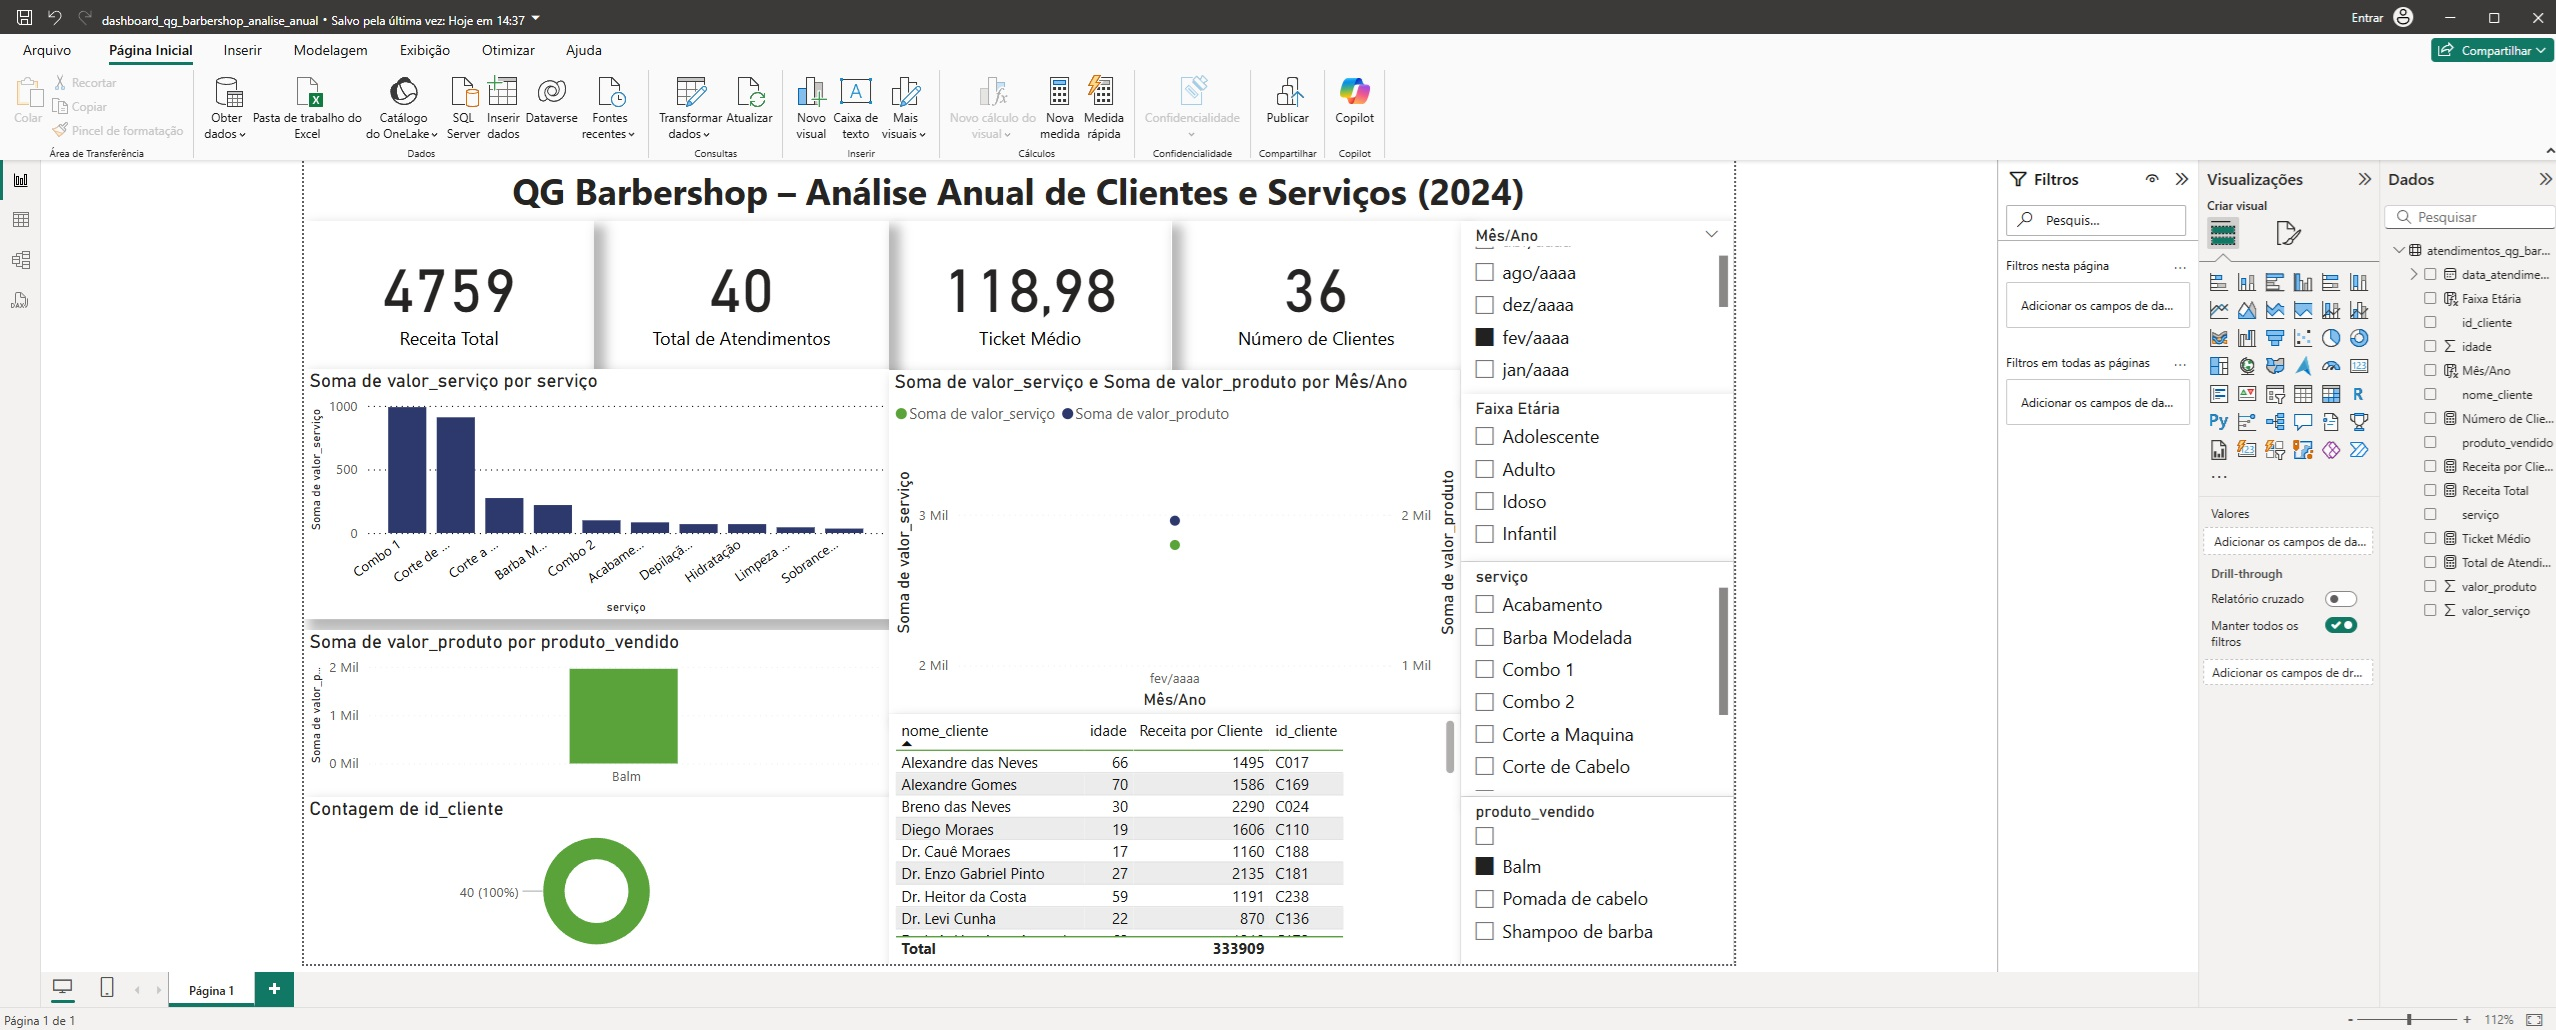

Layout of this report page (visuals, bound fields, positions):
{"tool":"powerbi","page":{"name":"Página 1","canvas":[1280,720],"ordinal":0},"visuals":[{"type":"textbox","box":[0,0,1279.7,54.6],"z":0},{"type":"card","fields":{"Values":["atendimentos_qg_barbershop.Receita Total"]},"box":[0,54.6,259.7,132.5],"z":1},{"type":"card","fields":{"Values":["atendimentos_qg_barbershop.Total de Atendimentos"]},"box":[259.7,54.6,264.2,132.5],"z":2},{"type":"card","fields":{"Values":["atendimentos_qg_barbershop.Ticket Médio"]},"box":[523.9,54.6,252.5,132.5],"z":3},{"type":"card","fields":{"Values":["atendimentos_qg_barbershop.Número de Clientes"]},"box":[776.4,54.6,259.7,132.5],"z":4},{"type":"clusteredColumnChart","fields":{"Category":["atendimentos_qg_barbershop.serviço"],"Y":["Sum(atendimentos_qg_barbershop.valor_serviço)"]},"box":[0,187.2,523.9,223.9],"z":5},{"type":"columnChart","fields":{"Category":["atendimentos_qg_barbershop.produto_vendido"],"Y":["Sum(atendimentos_qg_barbershop.valor_produto)"]},"box":[0,420.9,523.9,149.6],"z":6},{"type":"donutChart","fields":{"Y":["CountNonNull(atendimentos_qg_barbershop.id_cliente)"]},"box":[0,570.4,523.9,149.6],"z":7},{"type":"lineChart","fields":{"Category":["atendimentos_qg_barbershop.Mês/Ano"],"Y":["Sum(atendimentos_qg_barbershop.valor_serviço)"],"Y2":["Sum(atendimentos_qg_barbershop.valor_produto)"]},"box":[523.9,188.1,512.2,308.1],"z":8},{"type":"tableEx","fields":{"Values":["atendimentos_qg_barbershop.nome_cliente","atendimentos_qg_barbershop.idade","atendimentos_qg_barbershop.Receita por Cliente","atendimentos_qg_barbershop.id_cliente"]},"box":[523.9,496.1,512.2,223.9],"z":9},{"type":"slicer","fields":{"Values":["atendimentos_qg_barbershop.Mês/Ano"]},"box":[1036.1,54.6,243.6,154.9],"z":10},{"type":"slicer","fields":{"Values":["atendimentos_qg_barbershop.Faixa Etária"]},"box":[1036.1,209.6,243.6,150.4],"z":11},{"type":"slicer","fields":{"Values":["atendimentos_qg_barbershop.serviço"]},"box":[1036.1,360,243.6,210.4],"z":12},{"type":"slicer","fields":{"Values":["atendimentos_qg_barbershop.produto_vendido"]},"box":[1036,570,244,150],"z":13}]}

Visuals, with their boxes on the page's 1280x720 design canvas (x1, y1, x2, y2). These are canvas units, not pixel positions in the 2556x1030 screenshot, which may show the page scaled, cropped or inside an application window:
textbox: bbox=(0, 0, 1280, 55)
card - atendimentos_qg_barbershop.Receita Total: bbox=(0, 55, 260, 187)
card - atendimentos_qg_barbershop.Total de Atendimentos: bbox=(260, 55, 524, 187)
card - atendimentos_qg_barbershop.Ticket Médio: bbox=(524, 55, 776, 187)
card - atendimentos_qg_barbershop.Número de Clientes: bbox=(776, 55, 1036, 187)
clusteredColumnChart - atendimentos_qg_barbershop.serviço x Sum(atendimentos_qg_barbershop.valor_serviço): bbox=(0, 187, 524, 411)
columnChart - atendimentos_qg_barbershop.produto_vendido x Sum(atendimentos_qg_barbershop.valor_produto): bbox=(0, 421, 524, 570)
donutChart - CountNonNull(atendimentos_qg_barbershop.id_cliente): bbox=(0, 570, 524, 720)
lineChart - atendimentos_qg_barbershop.Mês/Ano x Sum(atendimentos_qg_barbershop.valor_serviço): bbox=(524, 188, 1036, 496)
tableEx - atendimentos_qg_barbershop.nome_cliente x atendimentos_qg_barbershop.idade: bbox=(524, 496, 1036, 720)
slicer - atendimentos_qg_barbershop.Mês/Ano: bbox=(1036, 55, 1280, 210)
slicer - atendimentos_qg_barbershop.Faixa Etária: bbox=(1036, 210, 1280, 360)
slicer - atendimentos_qg_barbershop.serviço: bbox=(1036, 360, 1280, 570)
slicer - atendimentos_qg_barbershop.produto_vendido: bbox=(1036, 570, 1280, 720)
